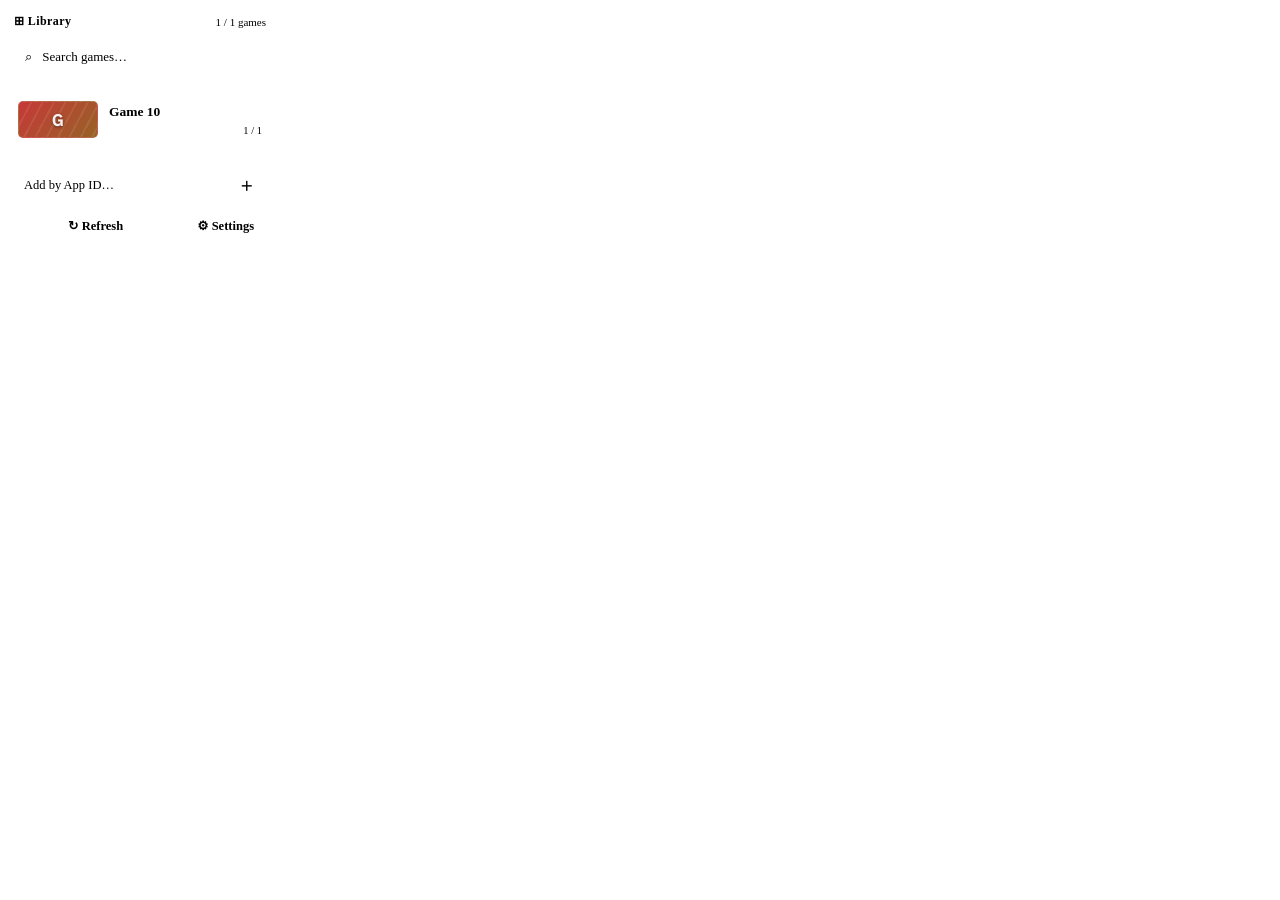
Test: Sidebar add by App ID › the Enter that raises the unsaved-changes guard does not also accept it
Type "20" into the field labelled "Add by App ID…" at (117, 186), box [14, 169, 220, 202]
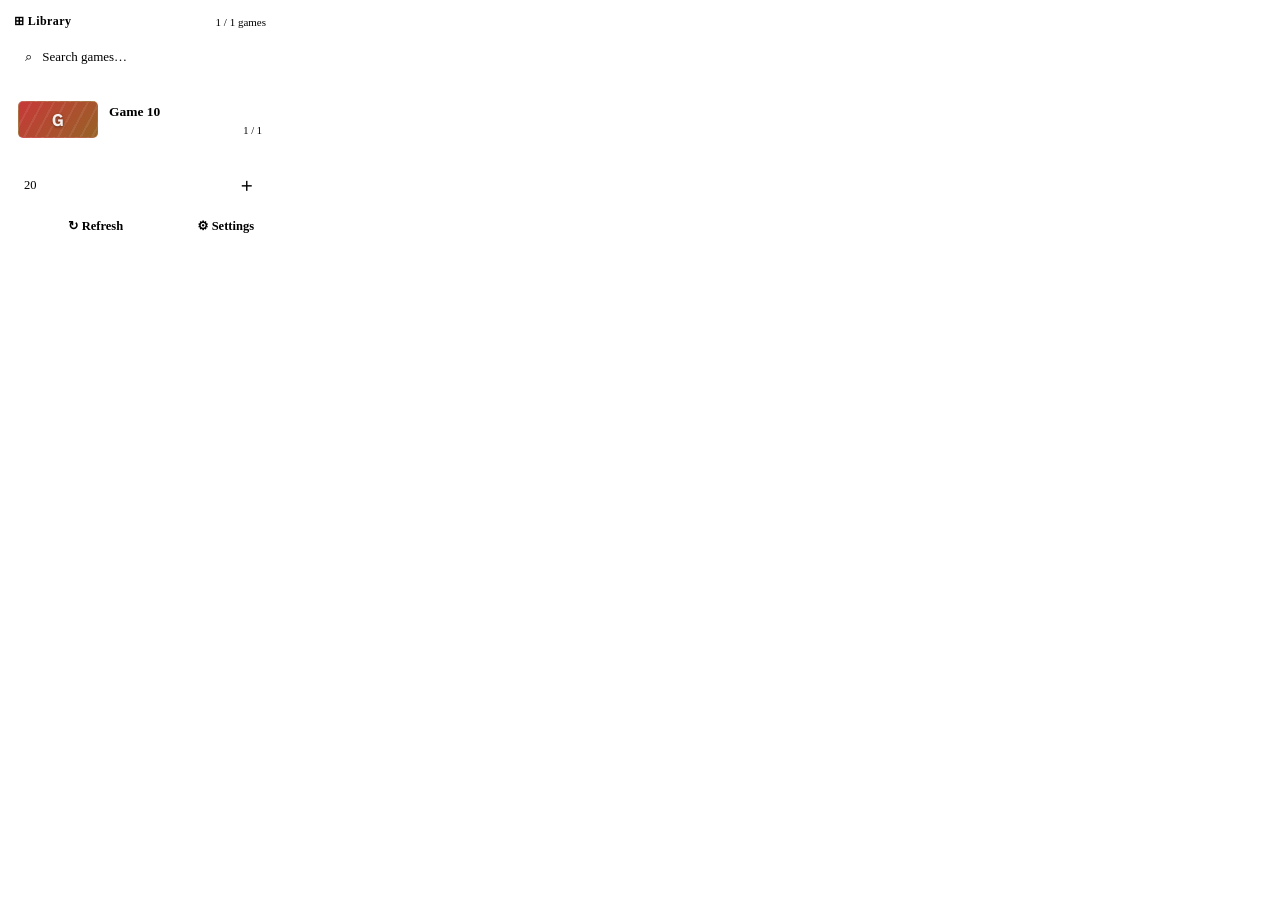
Press Enter
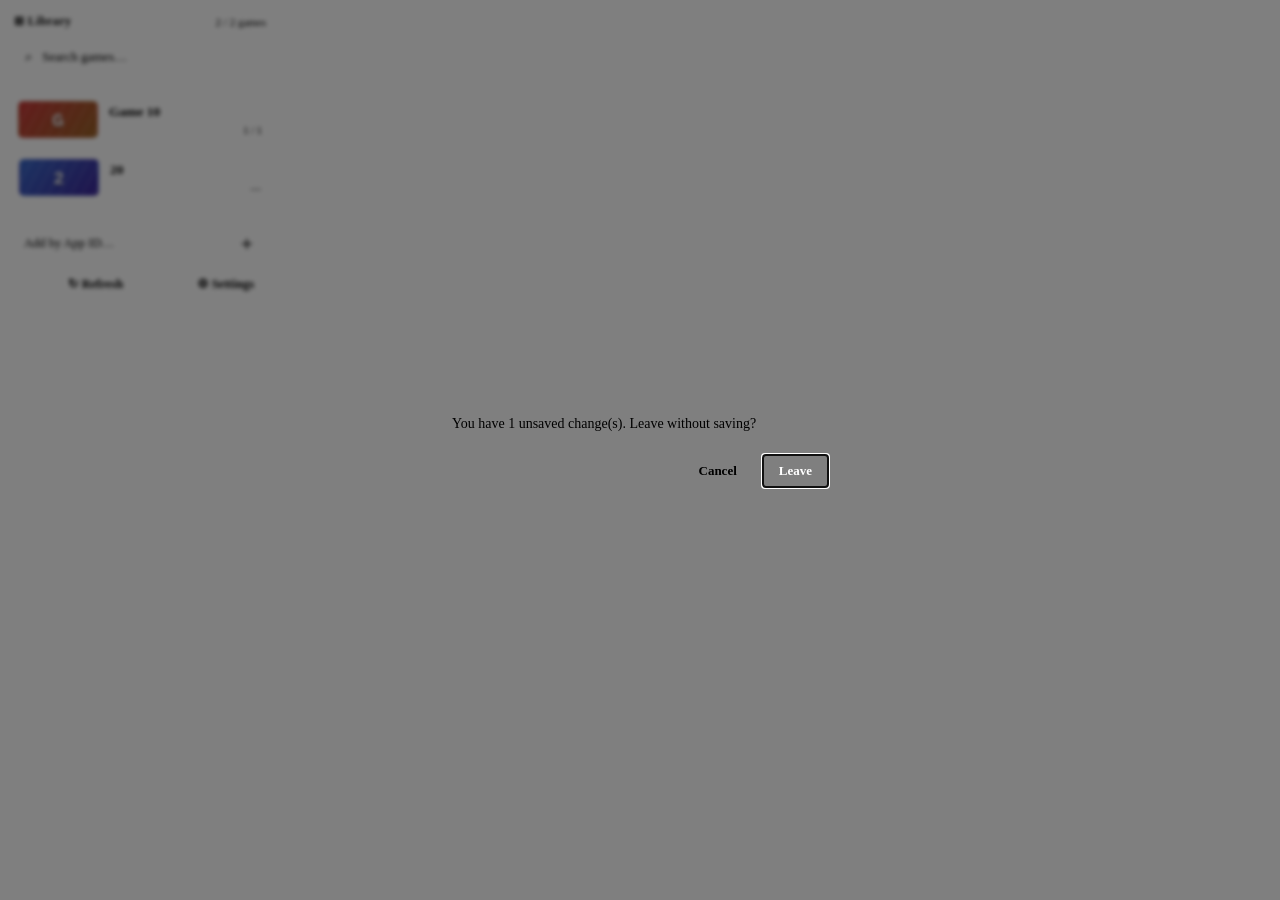
Expected: the dialog is shown, [430, 391, 850, 509]
A second, deliberate press is the confirmation.
Press Enter
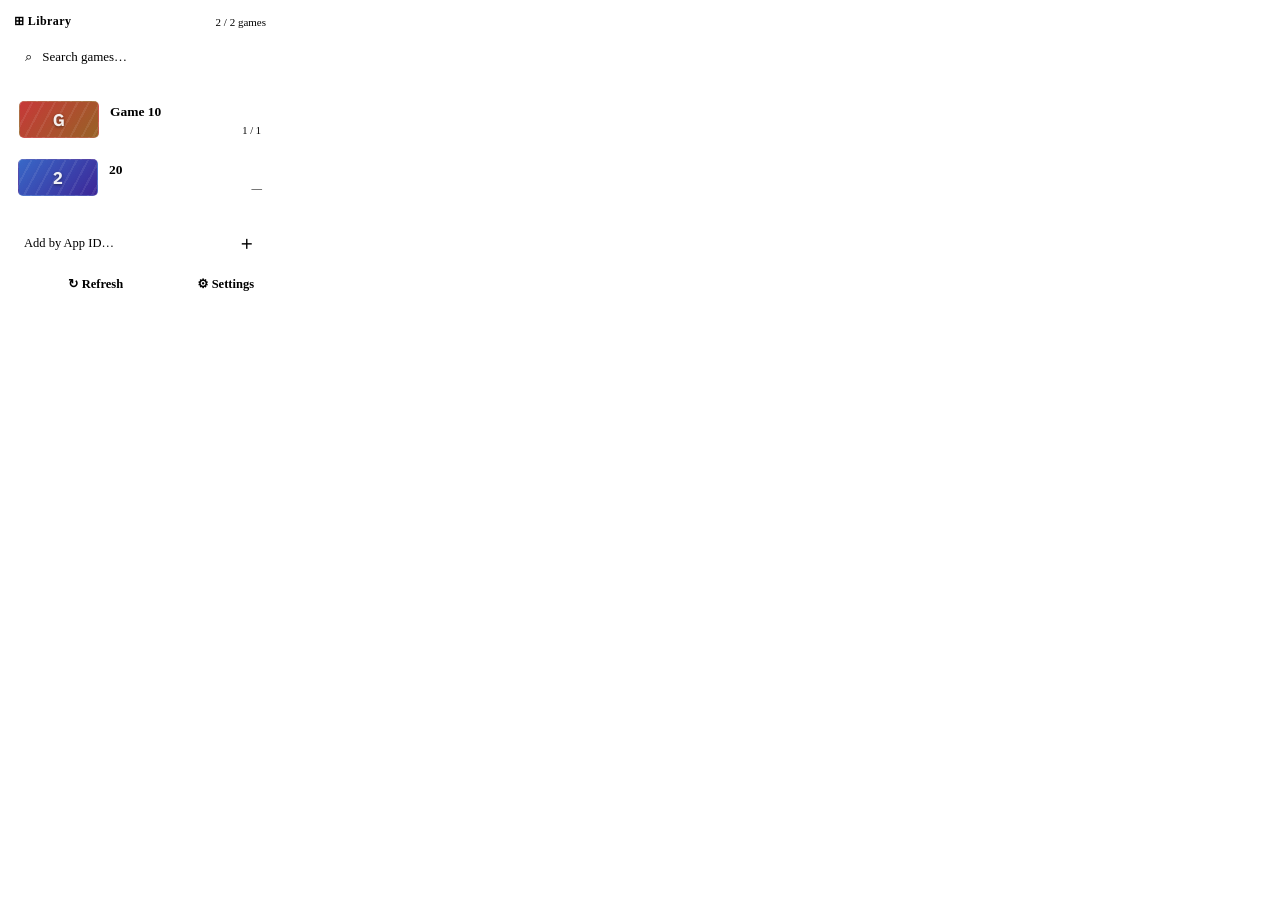
Expected: the dialog is gone
